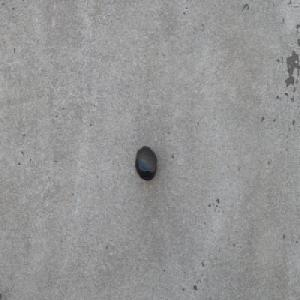FuelCap: (134, 145, 157, 181)
